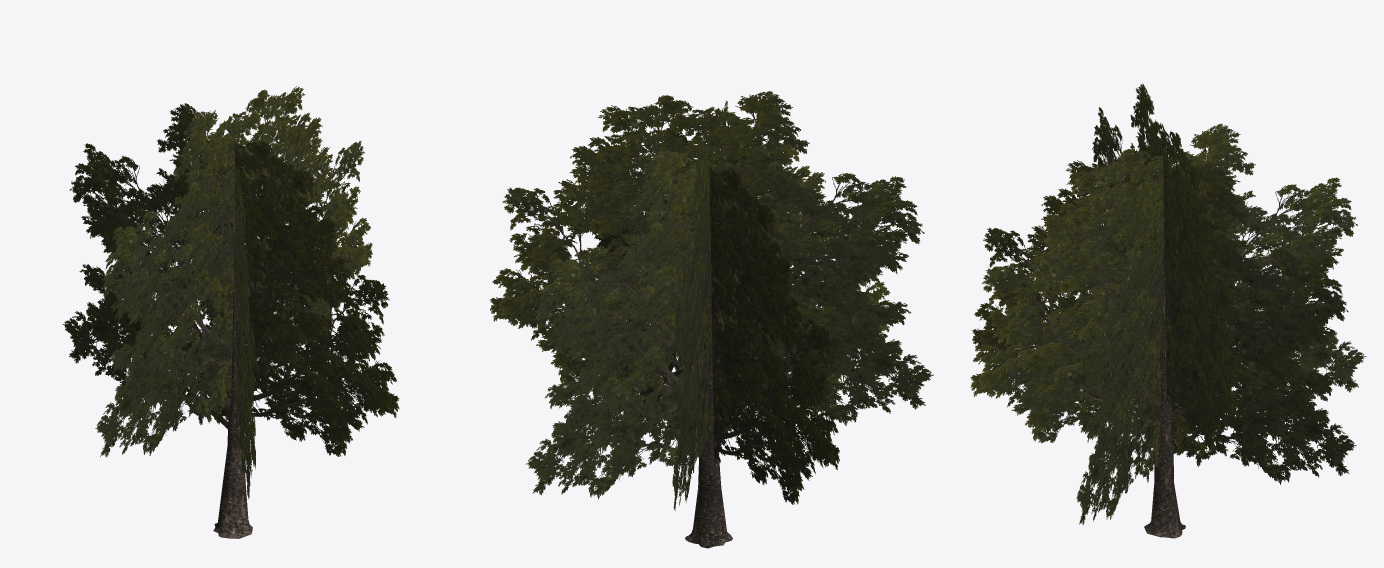
Rendered from tree_rt_4.glb.
3 views of the same model, side by side, from view 1: azimuth 30°, elevation 25°; view 2: azimuth 150°, elevation 25°; view 3: azimuth 270°, elevation 25° (orthographic). The views are drawn at different scales.
Parts seen in each view (by area): view 1: tree_rt_4; view 2: tree_rt_4; view 3: tree_rt_4.
Part boxes in pixels (x1=…): tree_rt_4: x1=62, y1=86, x2=399, y2=538; tree_rt_4: x1=490, y1=91, x2=933, y2=548; tree_rt_4: x1=970, y1=83, x2=1366, y2=538.
Size of the model in its own units: 4.72 by 5.56 by 4.72.
2 materials, 2 textured.
